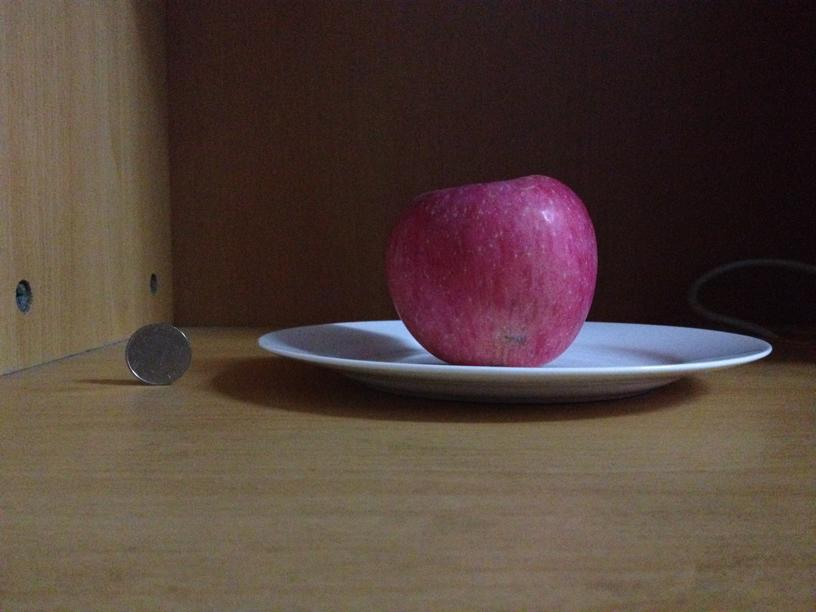apple: (387, 173, 600, 367)
coin: (125, 321, 192, 387)
